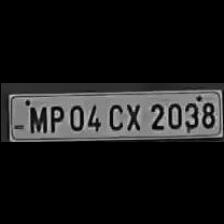0: (65, 101, 83, 131), (164, 99, 182, 129)
2: (144, 99, 164, 130)
3: (182, 98, 198, 130)
4: (84, 99, 102, 130)
8: (198, 97, 216, 128)
C: (104, 99, 124, 130)
M: (26, 102, 44, 132)
P: (44, 102, 64, 132)
X: (122, 99, 142, 130)
